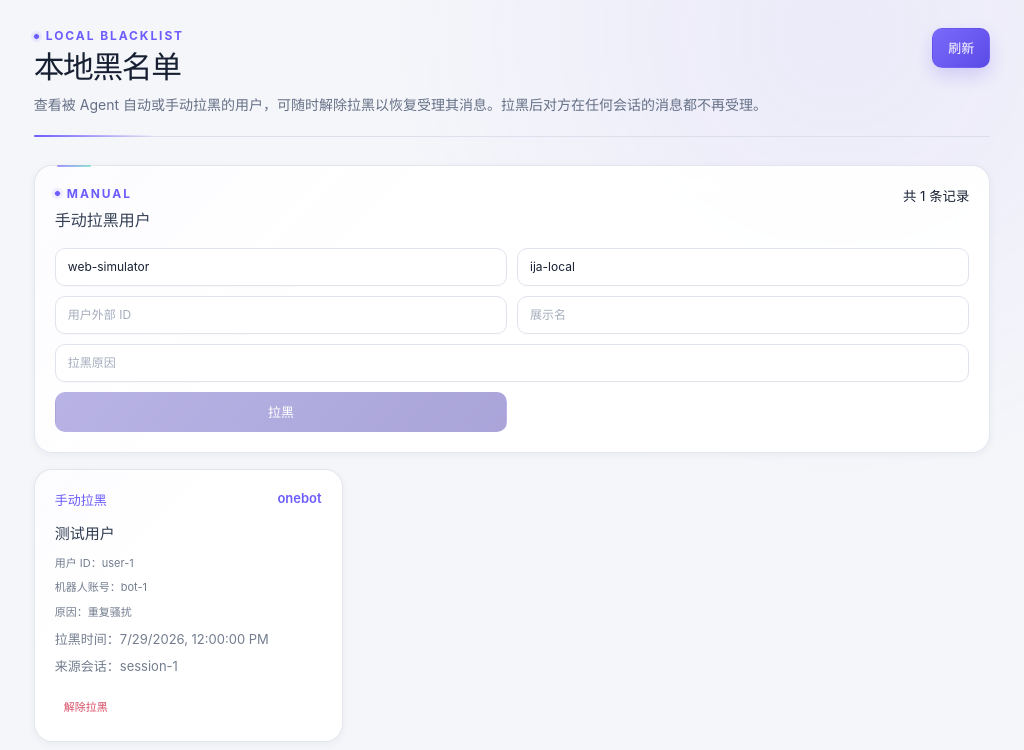
Test case: BlacklistView › 展示隔离条目并提交经过裁剪的手动拉黑参数
Replace the text in the field with placeholder "平台" with " onebot " at [281, 267], box [55,248,507,286]
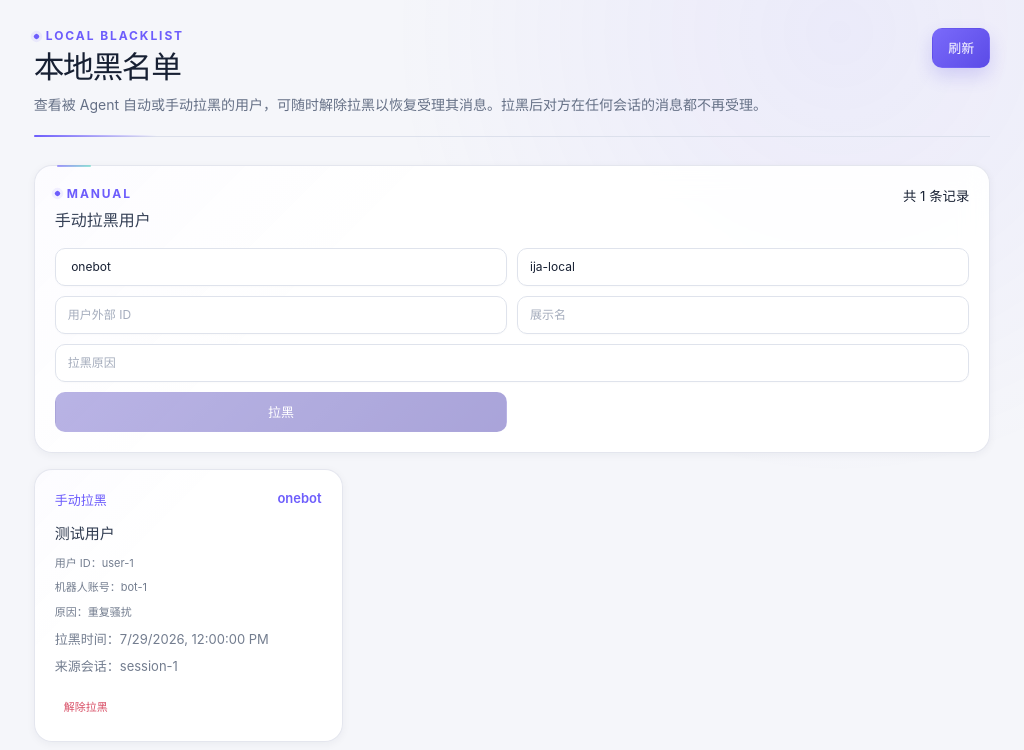
Replace the text in the field with placeholder "机器人账号" with " bot-2 " at [743, 267], box [517,248,969,286]
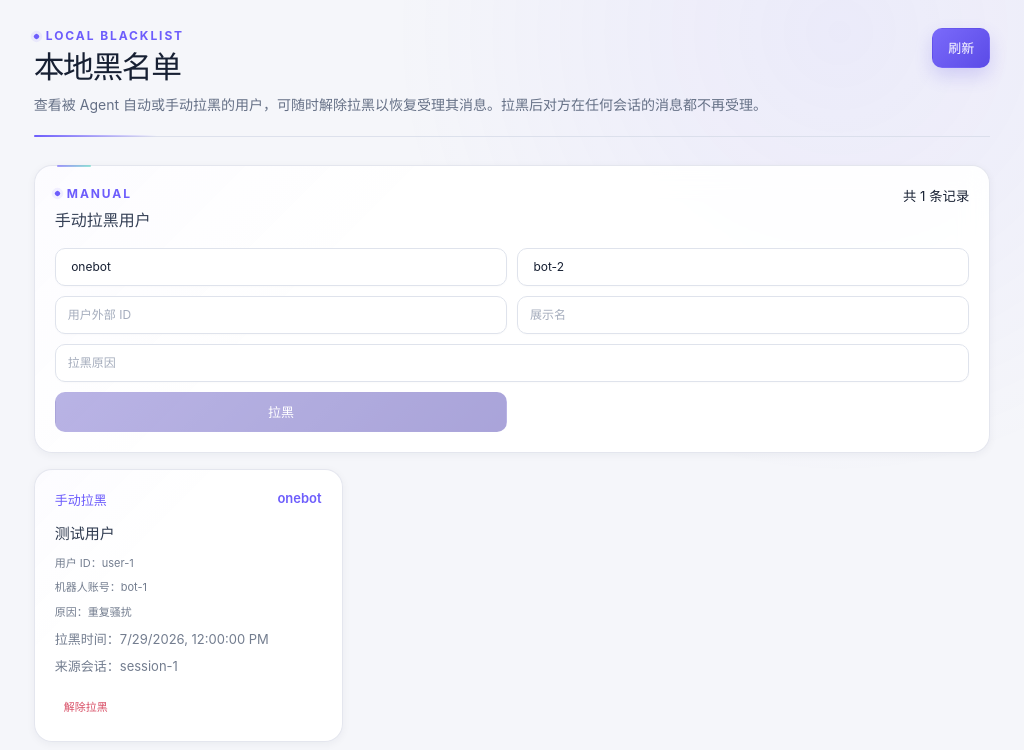
Type " user-2 " into the field with placeholder "用户外部 ID" at [281, 315], box [55,296,507,334]
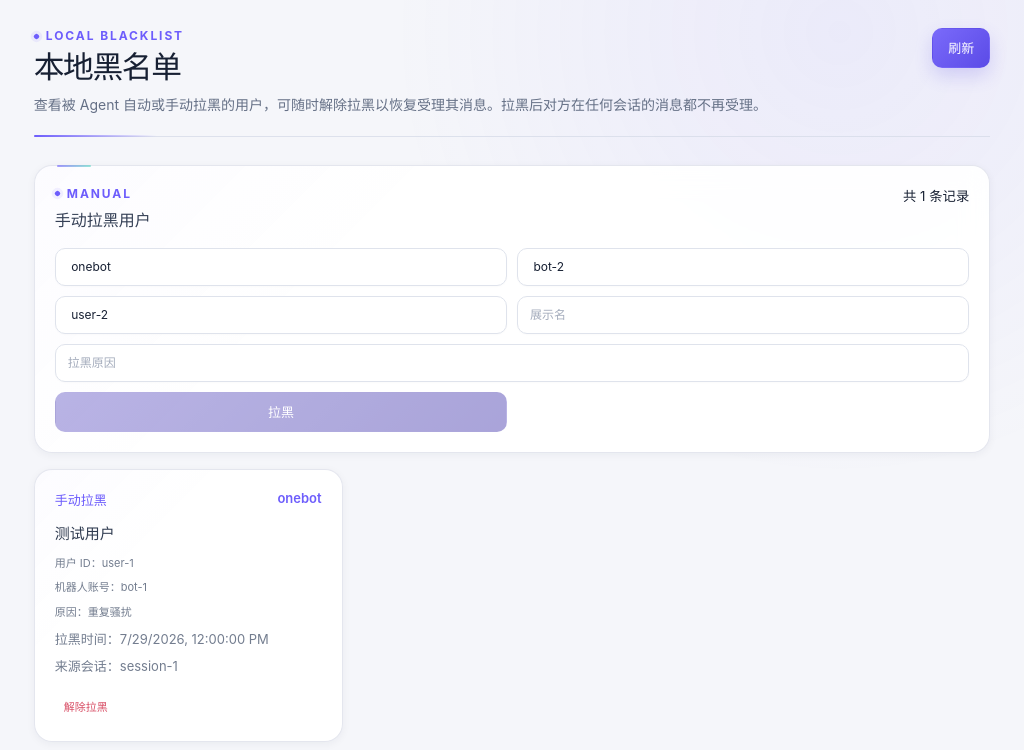
Type " 新用户 " into the field with placeholder "展示名" at [743, 315], box [517,296,969,334]
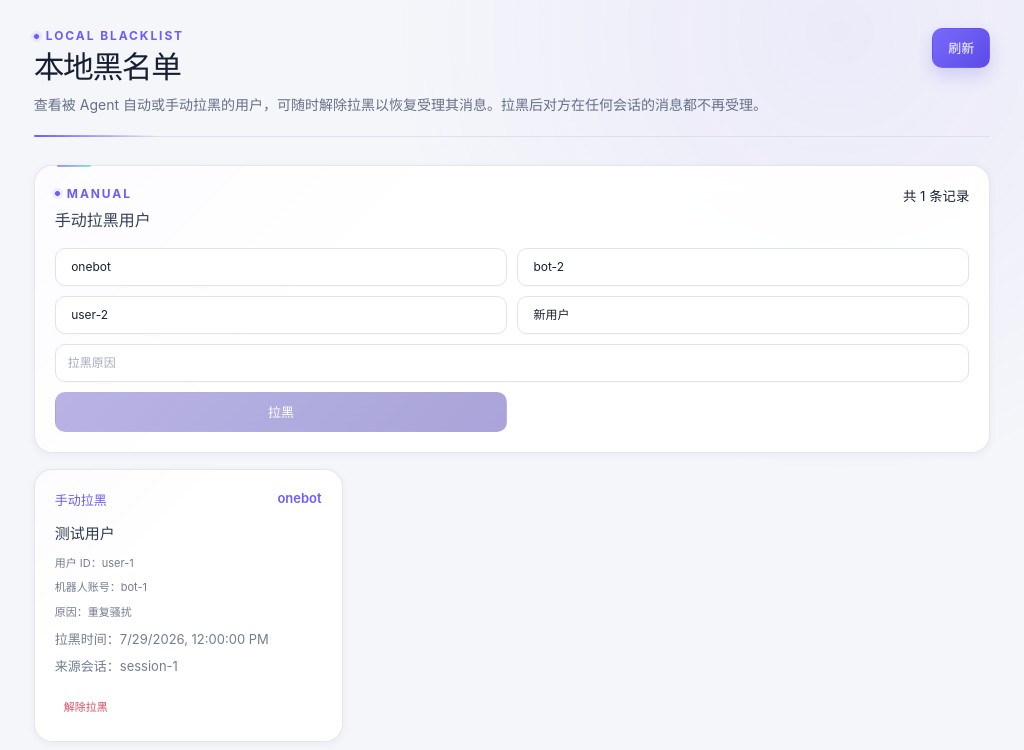
Type " 主动测试 " into the field with placeholder "拉黑原因" at [512, 363], box [55,344,969,382]
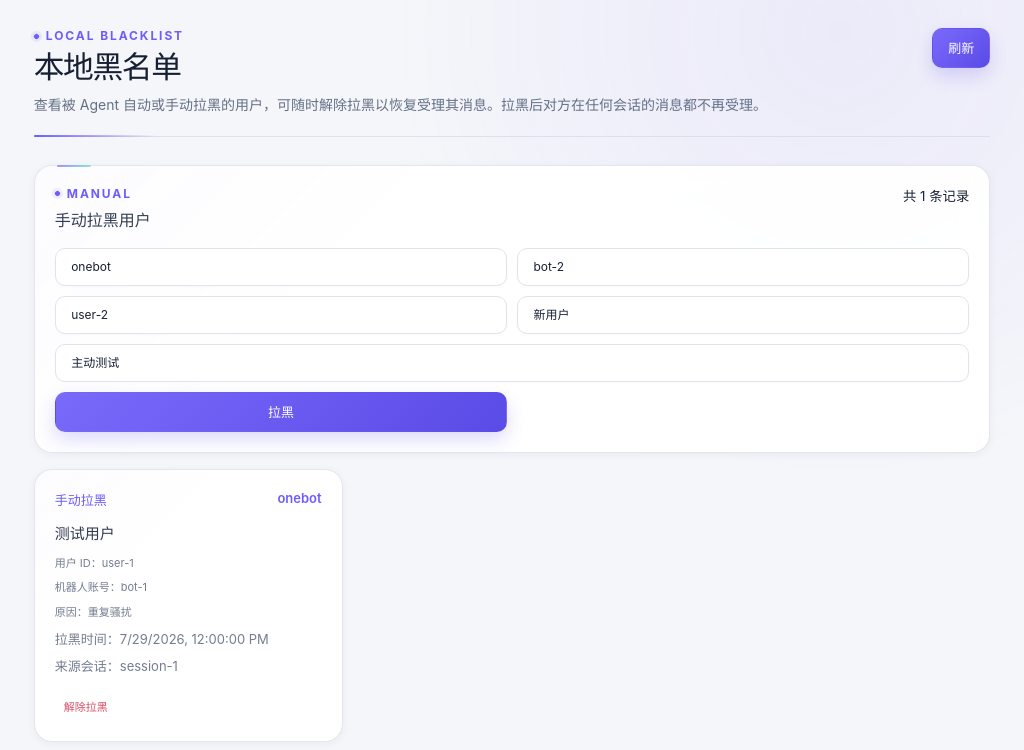
Click the button "拉黑" at [281, 412], box [55,392,507,432]
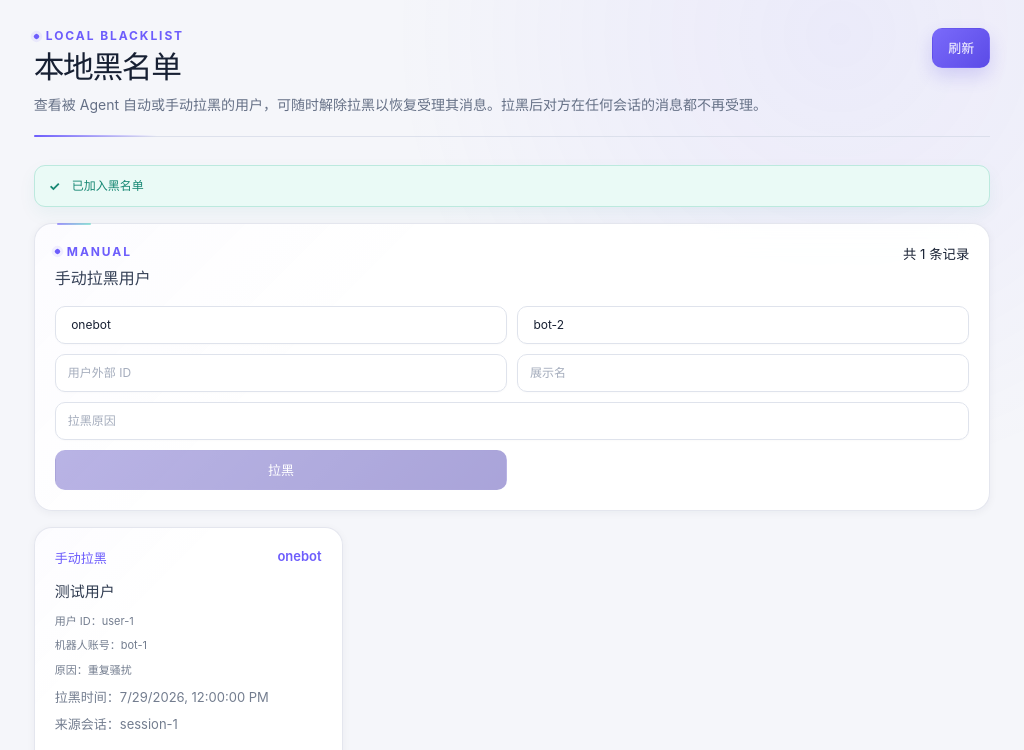
Expected: the text "已加入黑名单" is shown, [34,165,990,207]
